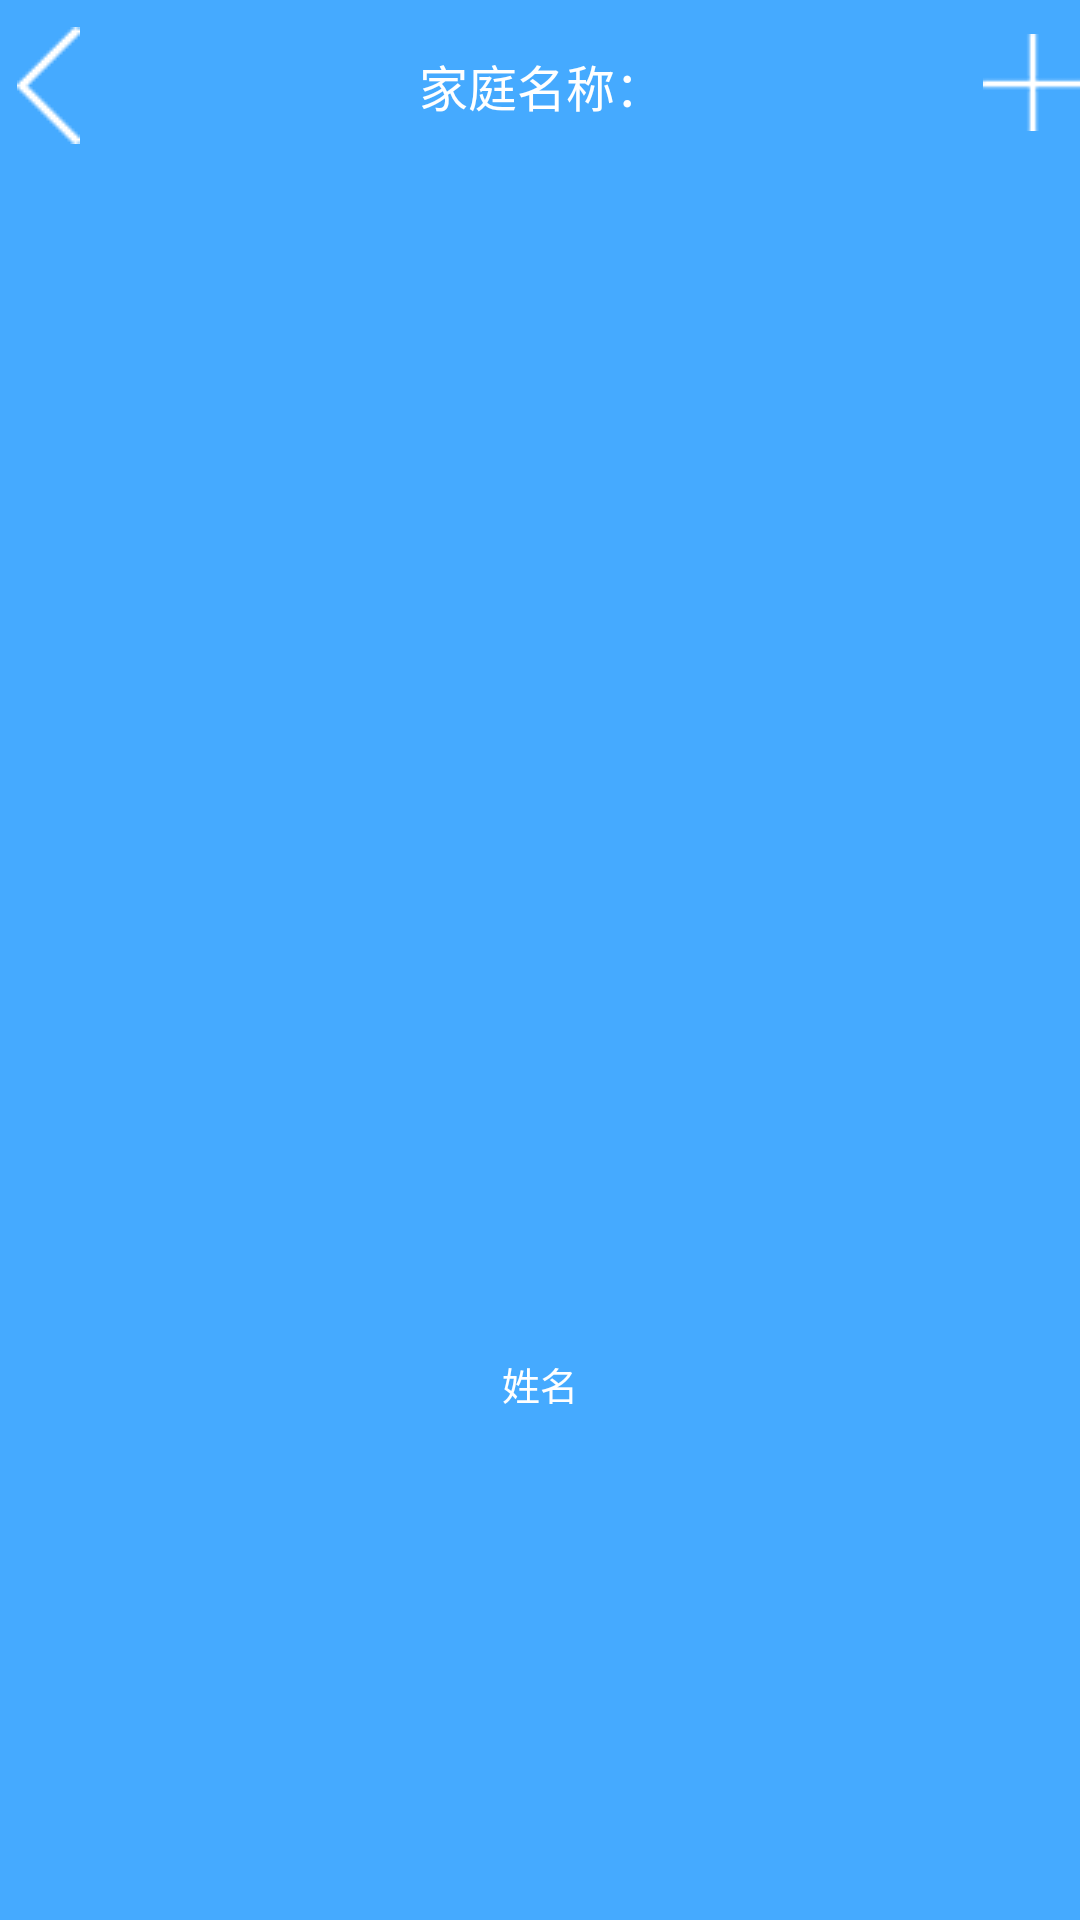

Screen size 1080*1920. Icon name, then its center in pixels as point (x, y):
add: point (1031, 82)
back: point (48, 85)
